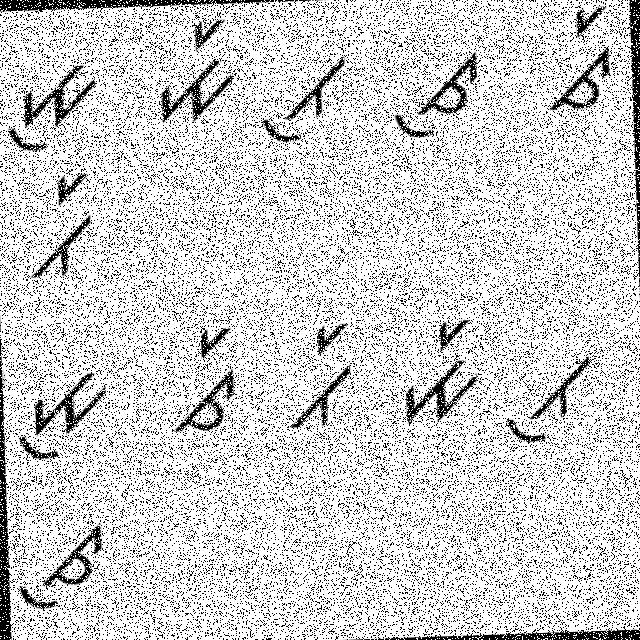bar: (23, 169, 108, 289), (282, 317, 360, 432)
baw: (494, 333, 596, 448), (254, 40, 350, 149)
car: (165, 315, 246, 435), (539, 0, 620, 116)
caw: (382, 41, 486, 147), (12, 511, 112, 615)
mar: (392, 308, 484, 432), (148, 15, 240, 127)
maw: (9, 356, 119, 462), (0, 57, 101, 158)
